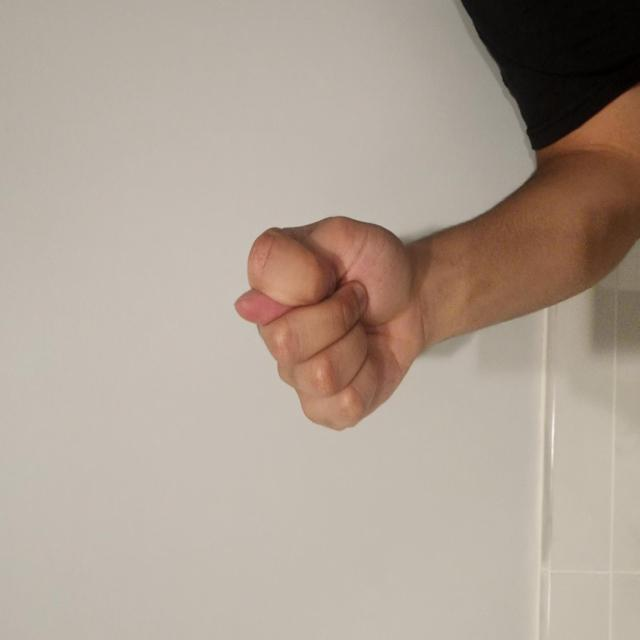T: (152, 308, 322, 577)
